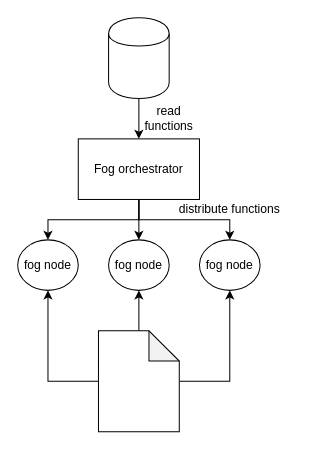
Image size: 328x449. Some labels were removed from this diagram. The shapes that lost their labels are listed below. From the top down, each one's box as (x1, y1, x2, y2) in pixels, then its label:
(108, 17, 169, 98): Functions
(97, 330, 179, 432): node-RED image
